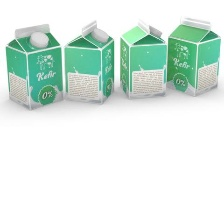carton: (6, 18, 63, 110), (63, 17, 118, 107), (166, 15, 222, 97), (118, 17, 168, 100)
